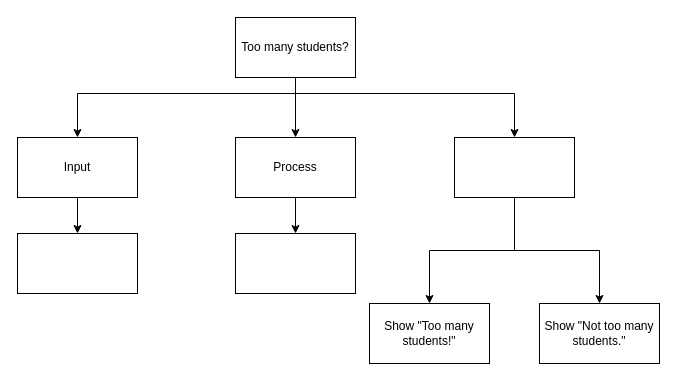
The diagram is 677 pixels wide and 381 high, and some of its shapes have lost their labels. Each missing label, with the box of its shape:
Check if number_of_students is over 30: (234, 232, 356, 294)
Get number_of_students: (16, 232, 138, 294)
Output: (454, 136, 574, 198)
